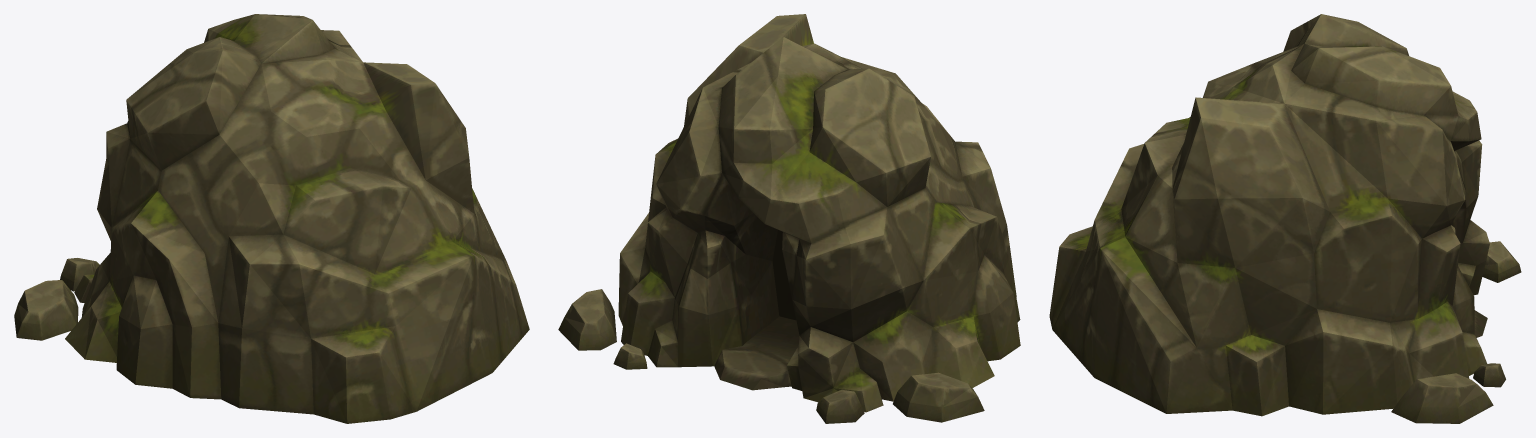
File: cave_entrance_01.fbx
3 views of the same model, side by side, from view 1: azimuth 30°, elevation 25°; view 2: azimuth 150°, elevation 25°; view 3: azimuth 270°, elevation 25° (orthographic). The views are drawn at different scales.
Parts seen in each view (by area): view 1: obj0.163; view 2: obj0.163; view 3: obj0.163.
Boxes of the visible parts, bbox=[...] form: obj0.163: bbox=[14, 14, 529, 423]; obj0.163: bbox=[558, 14, 1020, 423]; obj0.163: bbox=[1049, 14, 1521, 423].
Bounding box in the file's own units: 10.53 × 7.09 × 10.22.
